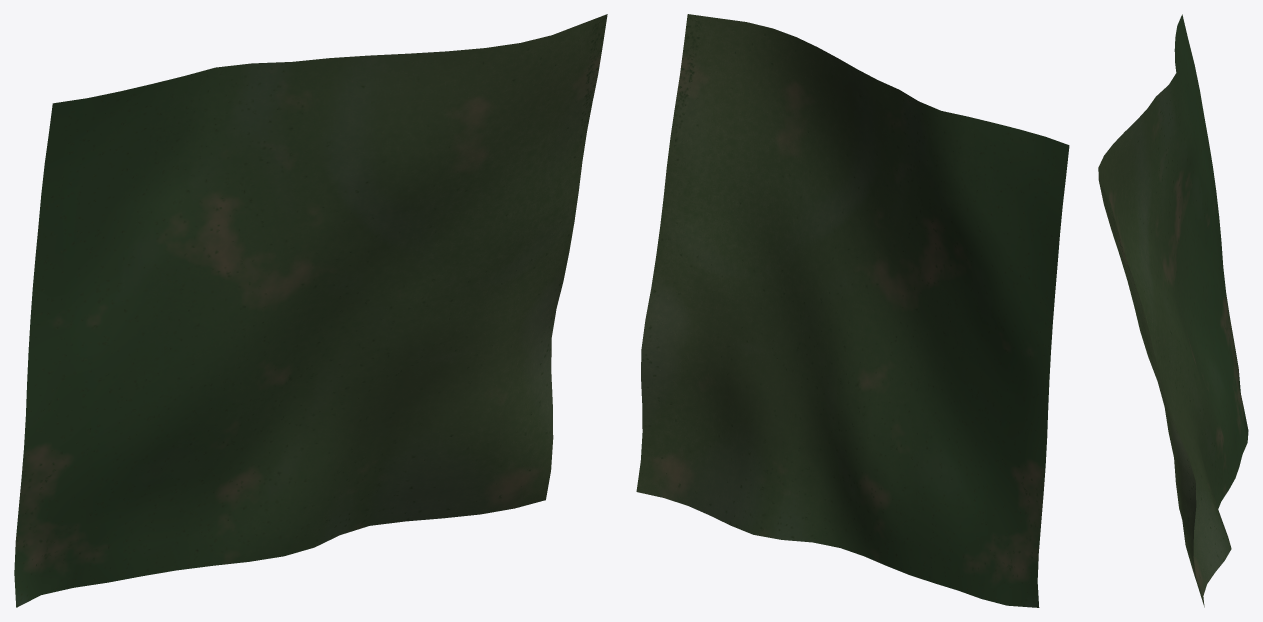
Rendered from terrain_far_00_02.obj.
3 views of the same model, side by side, from view 1: azimuth 30°, elevation 25°; view 2: azimuth 150°, elevation 25°; view 3: azimuth 270°, elevation 25° (orthographic). The views are drawn at different scales.
Visible parts, largest first — view 1: terrain_far_00_02; view 2: terrain_far_00_02; view 3: terrain_far_00_02.
Boxes of the visible parts, bbox=[...] form: terrain_far_00_02: bbox=[14, 14, 607, 607]; terrain_far_00_02: bbox=[636, 14, 1069, 607]; terrain_far_00_02: bbox=[1098, 14, 1248, 607].
Size of the model in its own units: 640 by 640 by 215.
Materials: 1 (1 with a texture image).
